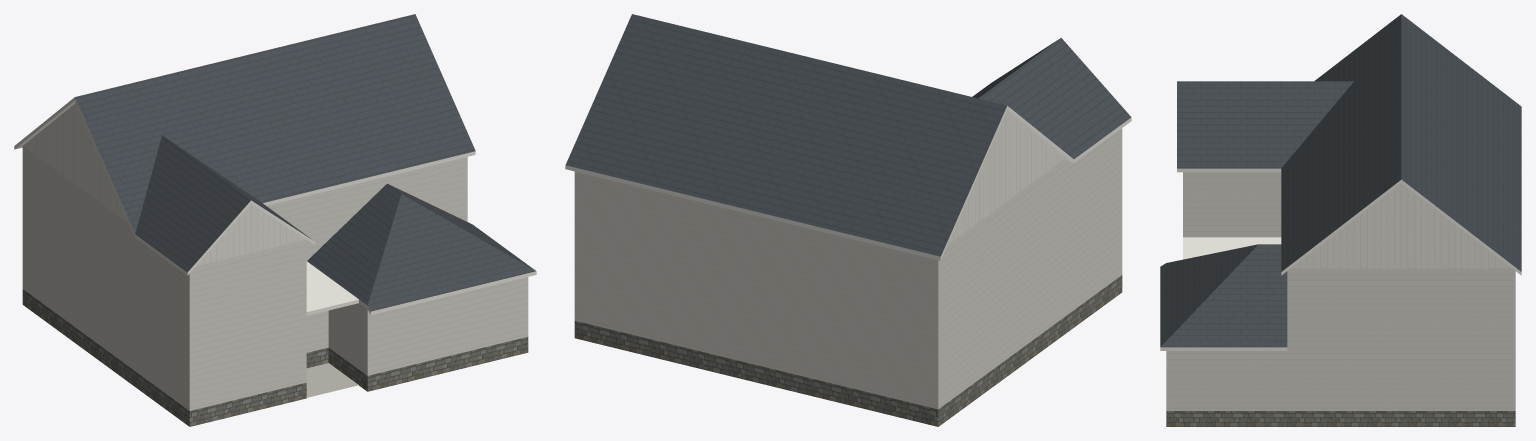
The picture shows the model from 3 angles, left to right: view 1: azimuth 30°, elevation 25°; view 2: azimuth 150°, elevation 25°; view 3: azimuth 270°, elevation 25°; orthographic projection. The views are drawn at different scales.
Parts seen in each view (by area): view 1: Roof_Main_Front, Left, Front_Wing, Front, Roof_Garage_Hip_Front, Roof_Front_Gable_Left, Front_Upper, Roof_Garage_Left, Garage_Porch_Return, Roof_Entry_Canopy, Front_Entry, Front_Porch_Deck (+2 smaller); view 2: Roof_Main_Back, Back, Left, Roof_Front_Gable_Left; view 3: right, Roof_Main_Back, Roof_Main_Front, Roof_Front_Gable_Right, Roof_Garage_Right, Front_Wing_Porch_Return, Roof_Garage_Hip_Front, Roof_Entry_Canopy.
Boxes of the visible parts, left/top/right/bottom form: Roof_Main_Front: left=75, top=14, right=475, bottom=237; Left: left=22, top=103, right=189, bottom=426; Front_Wing: left=189, top=204, right=306, bottom=426; Front: left=367, top=277, right=528, bottom=391; Roof_Garage_Hip_Front: left=367, top=194, right=536, bottom=314; Roof_Front_Gable_Left: left=135, top=135, right=251, bottom=275; Front_Upper: left=267, top=157, right=467, bottom=260; Roof_Garage_Left: left=307, top=183, right=401, bottom=308; Garage_Porch_Return: left=328, top=303, right=367, bottom=391; Roof_Entry_Canopy: left=306, top=261, right=358, bottom=315; Front_Entry: left=306, top=310, right=328, bottom=368; Front_Porch_Deck: left=306, top=363, right=358, bottom=397; Roof_Main_Back: left=565, top=14, right=1007, bottom=260; Back: left=574, top=171, right=938, bottom=426; Left: left=938, top=112, right=1122, bottom=426; Roof_Front_Gable_Left: left=978, top=38, right=1131, bottom=162; right: left=1166, top=183, right=1515, bottom=426; Roof_Main_Back: left=1401, top=14, right=1521, bottom=275; Roof_Main_Front: left=1281, top=14, right=1401, bottom=275; Roof_Front_Gable_Right: left=1177, top=81, right=1353, bottom=172; Roof_Garage_Right: left=1160, top=244, right=1287, bottom=350; Front_Wing_Porch_Return: left=1183, top=172, right=1281, bottom=237; Roof_Garage_Hip_Front: left=1160, top=244, right=1257, bottom=346; Roof_Entry_Canopy: left=1183, top=237, right=1281, bottom=259.
Size of the model in its own units: 11660 by 8210 by 10760.
6 materials, 4 textured.
